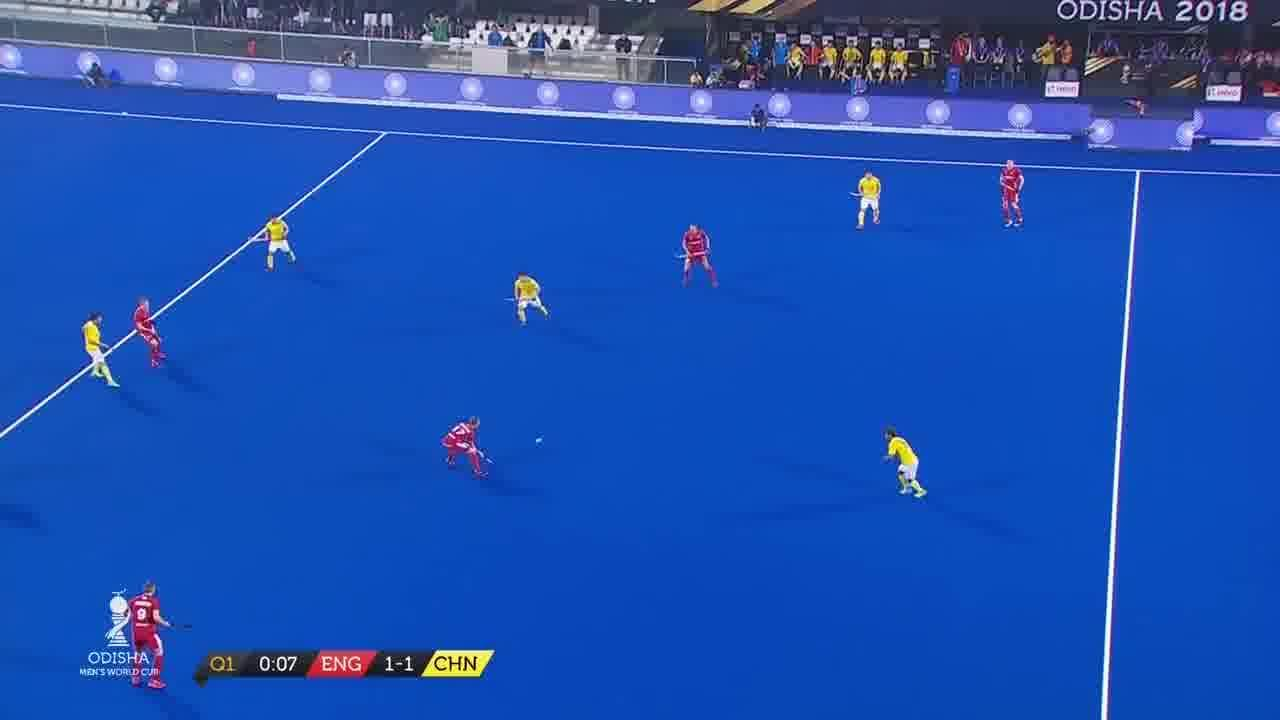ball: (532, 430, 552, 458)
